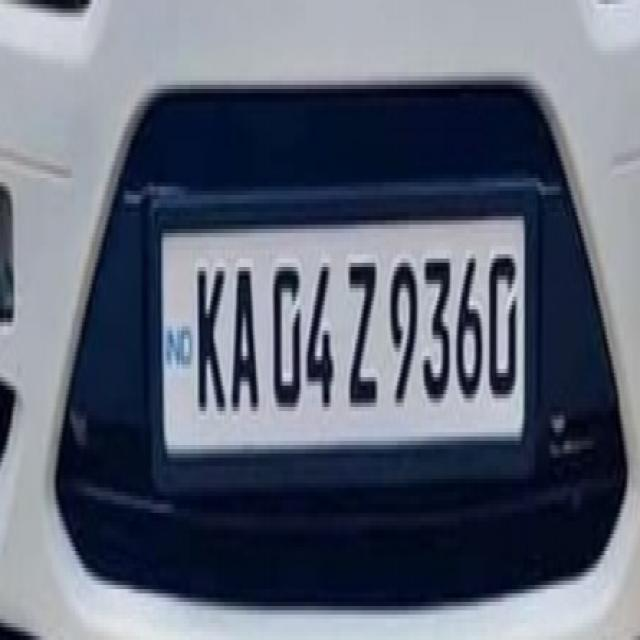0: (484, 244, 520, 418), (270, 247, 304, 424)
3: (424, 247, 453, 414)
4: (305, 253, 336, 421)
6: (454, 244, 486, 402)
9: (387, 238, 421, 423)
A: (230, 253, 264, 424)
K: (191, 256, 229, 427)
Z: (344, 242, 384, 418)
